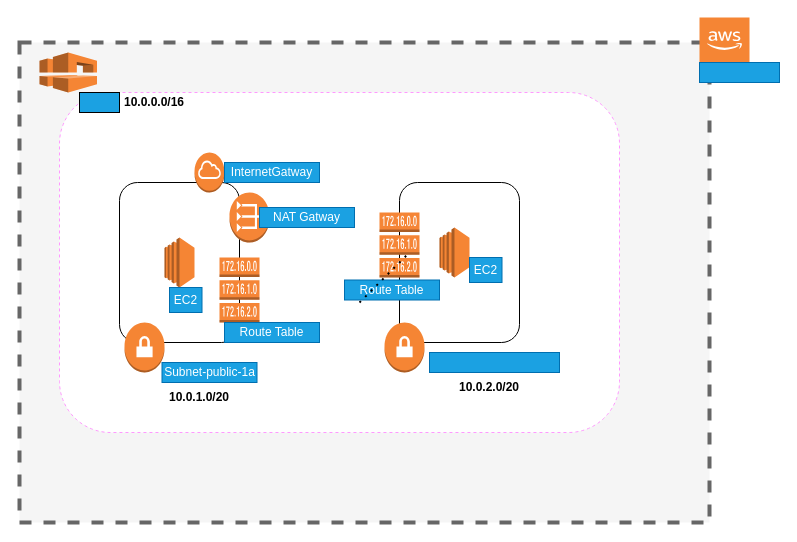
This 797x542 diagram has some shape labels left out. The centre of each missing label's shape, as x and y in pixels:
"AWS account" belongs at point 739,72.
"Subnet-Private-1b" belongs at point 494,362.
"Text" belongs at point 399,245.
"VPC" belongs at point 99,102.
